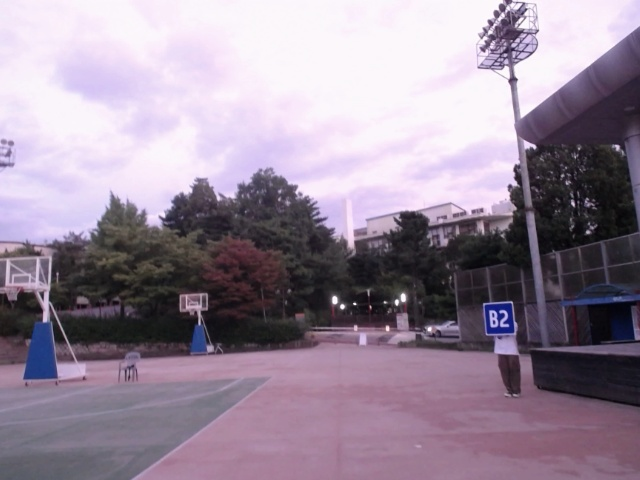delivery_b2: (482, 302, 517, 336)
